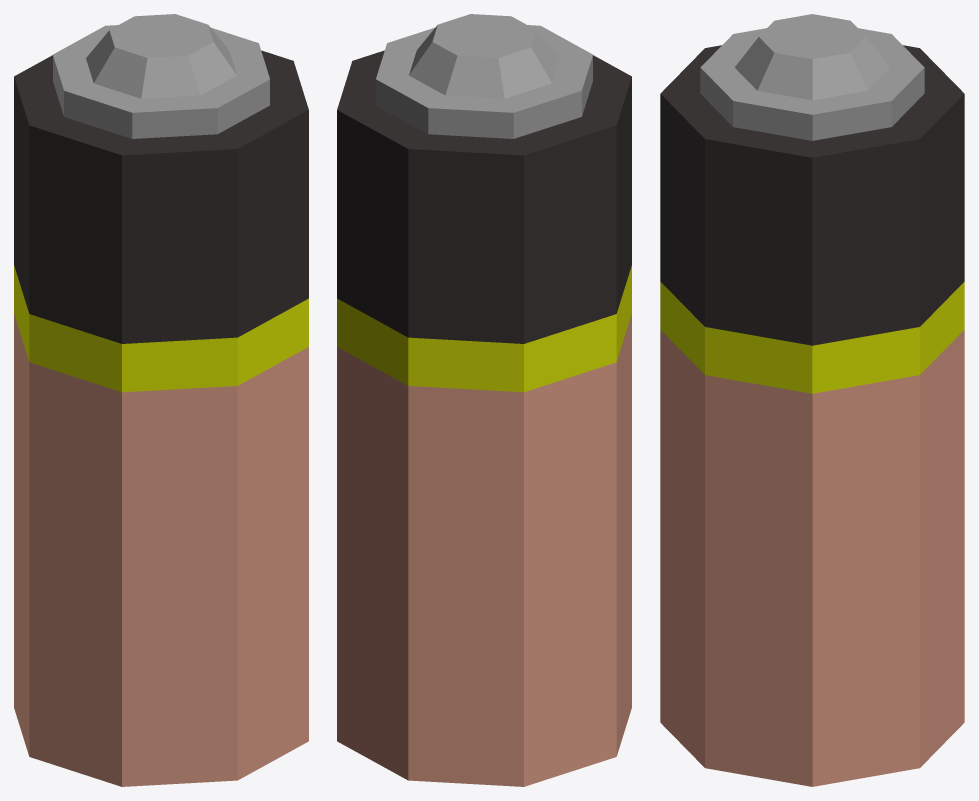
The model's file is powerup_battery.fbx.
3 views of the same model, side by side, from view 1: azimuth 30°, elevation 25°; view 2: azimuth 150°, elevation 25°; view 3: azimuth 270°, elevation 25° (orthographic).
Parts seen in each view (by area): view 1: pCylinder1; view 2: pCylinder1; view 3: pCylinder1.
Part boxes in pixels (box(x1,y1,x2,y2)): pCylinder1: box(14, 14, 308, 786); pCylinder1: box(337, 14, 631, 786); pCylinder1: box(660, 14, 964, 786).
Bounding box in the file's own units: 33.56 × 83.56 × 33.56.
